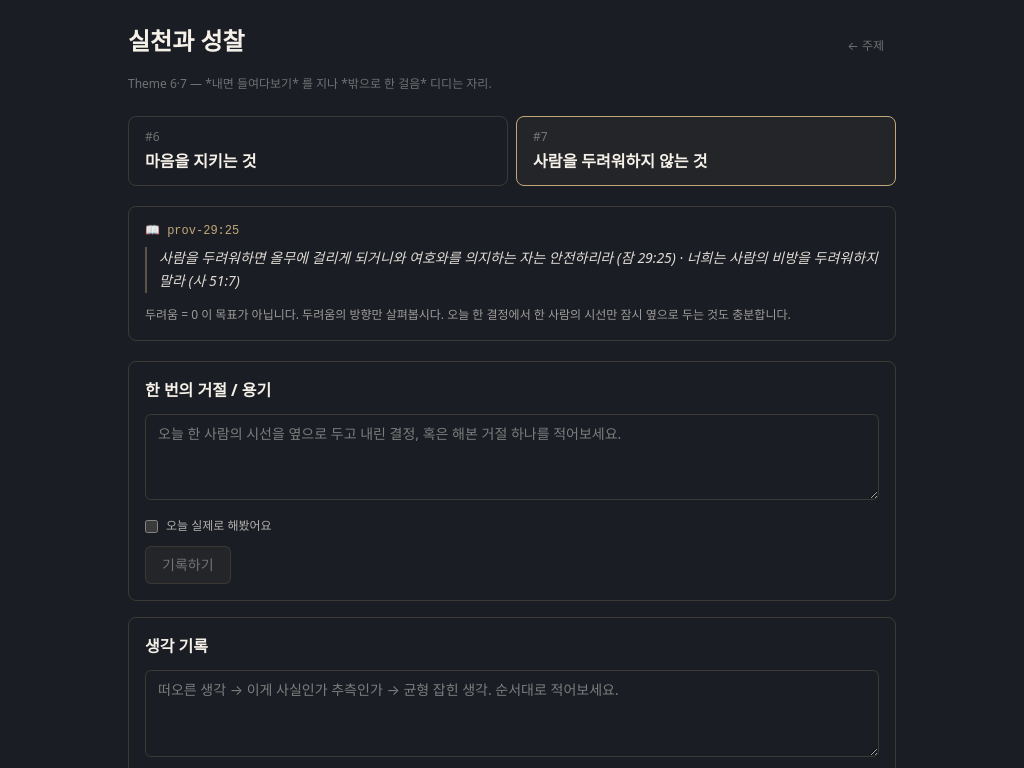
Test: /topics/practice › 저장이 실패하면 실패를 알리고, 사용자가 쓴 글은 지우지 않는다
This screenshot has width=1024, height=768.
Type "지우면 안 되는 문장" into the text box with placeholder "오늘 한 사람의 시선을 옆으로 두고 내린 결정, 혹은 해본 거절 하나를 적어보세요." at (512, 457), box [145,414,879,500]
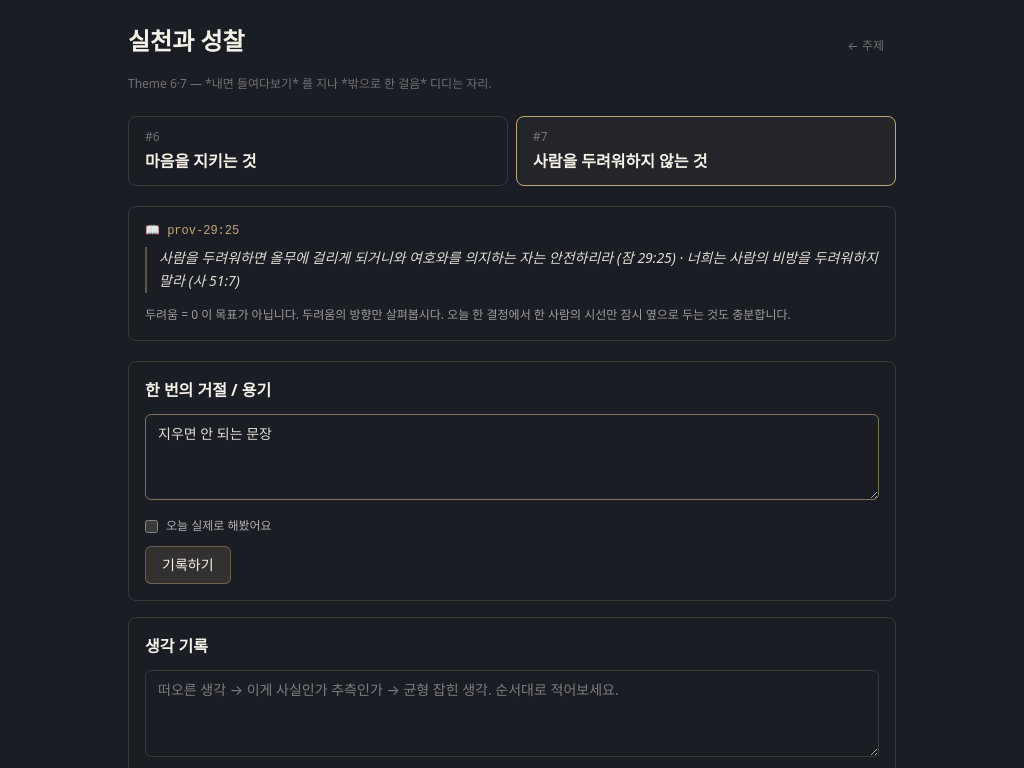
Click the button "기록하기" at (188, 565), box [145,546,230,584]
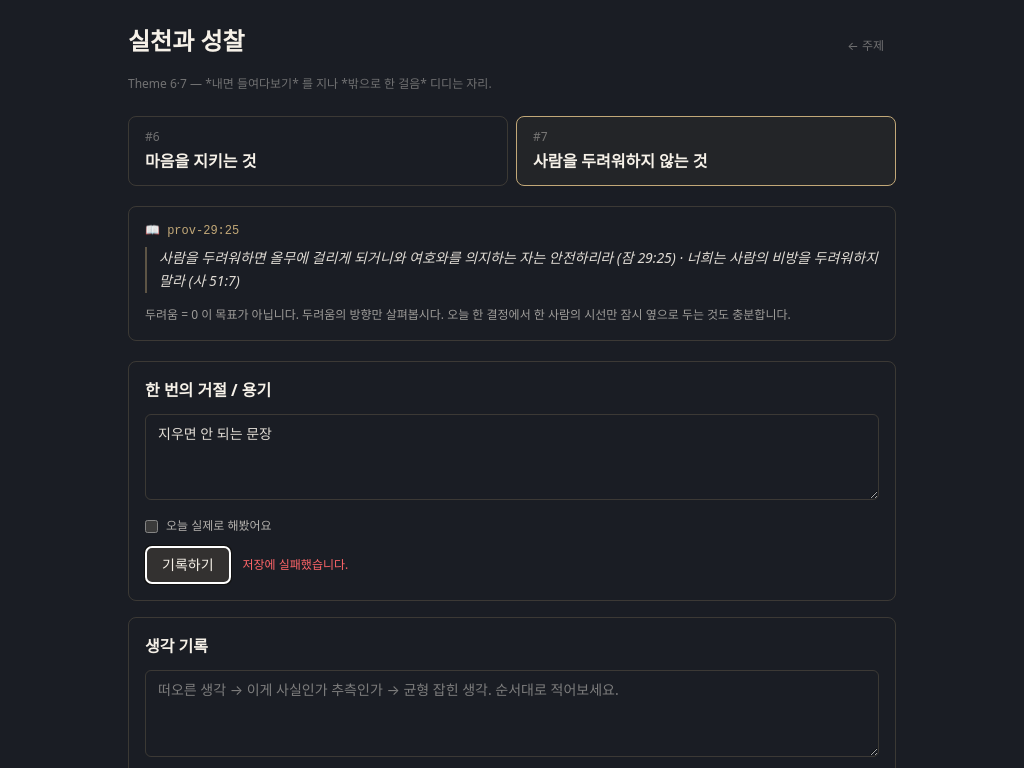
Expected: the text "저장에 실패했습니다." is shown, [242,557,348,573]
